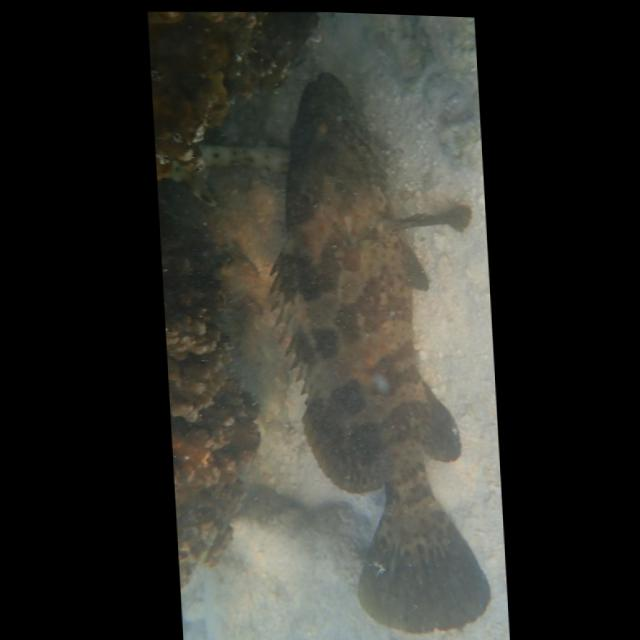Groupers: (254, 61, 494, 640)
